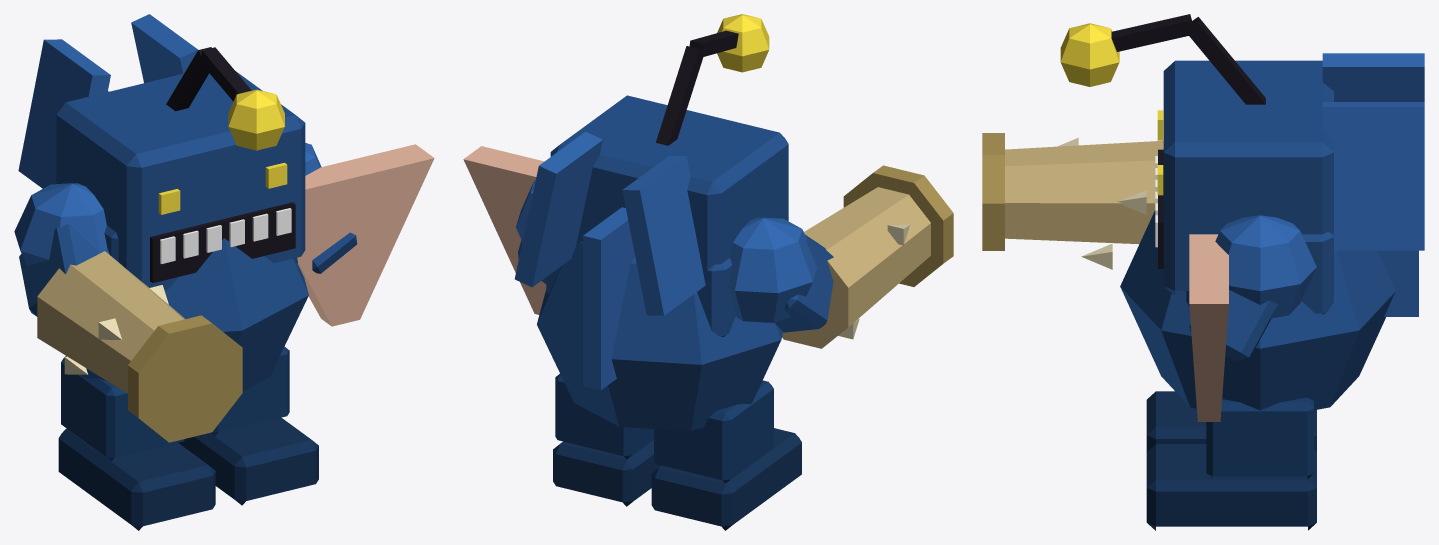
The model's file is r15_mini_angler_gunner.glb.
The picture shows the model from 3 angles, left to right: view 1: azimuth 30°, elevation 25°; view 2: azimuth 150°, elevation 25°; view 3: azimuth 270°, elevation 25°; orthographic projection. The views are drawn at different scales.
Parts seen in each view (by area): view 1: r15_mini_angler_gunner_mesh; view 2: r15_mini_angler_gunner_mesh; view 3: r15_mini_angler_gunner_mesh.
Part boxes in pixels (x1,y1,x2,y2): r15_mini_angler_gunner_mesh: (14, 14, 434, 530); r15_mini_angler_gunner_mesh: (463, 14, 953, 530); r15_mini_angler_gunner_mesh: (982, 14, 1424, 530).
Size of the model in its own units: 3.5 by 3.8 by 3.24.
1 material, 1 textured.
